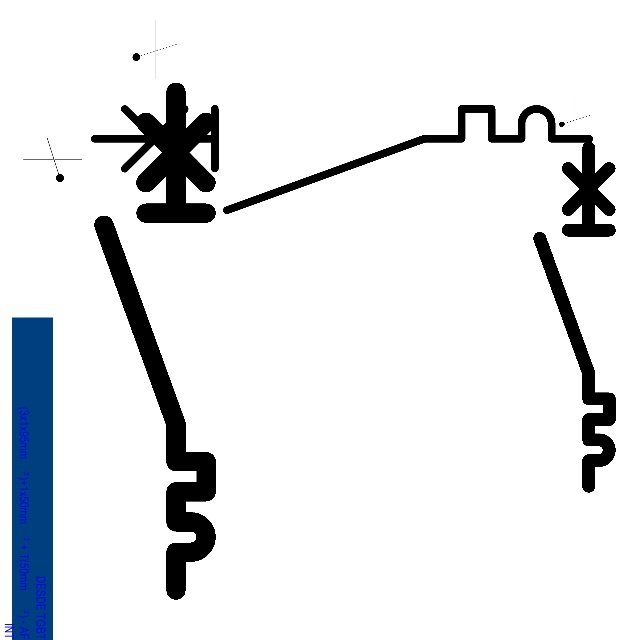interruptor_termomagnetico: (91, 79, 219, 602), (81, 96, 601, 223), (531, 139, 618, 495)
